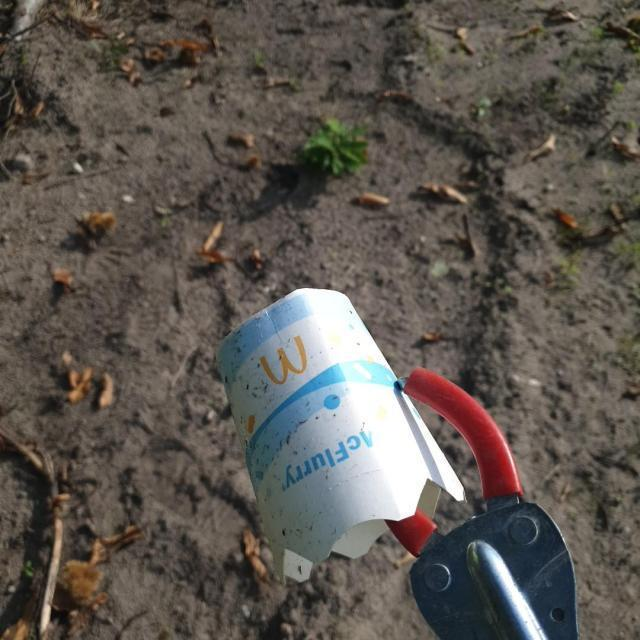Paper: (208, 284, 471, 592)
